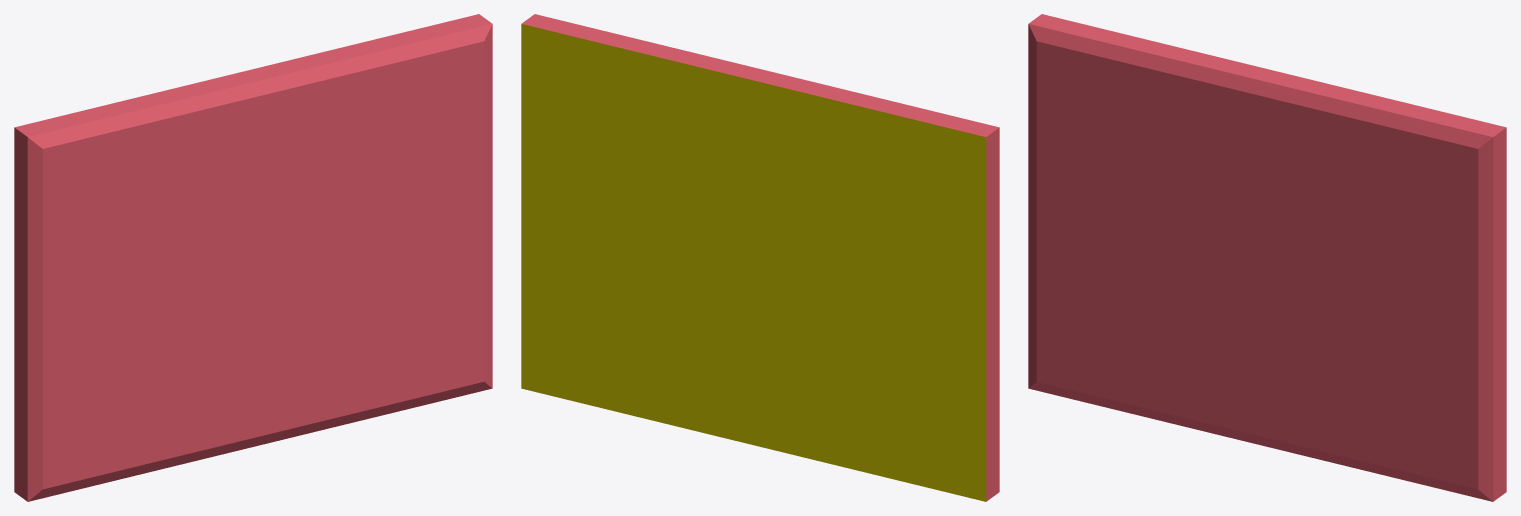
Rendered from wall-scifi-1side.fbx.
3 views of the same model, side by side, from view 1: azimuth 30°, elevation 25°; view 2: azimuth 150°, elevation 25°; view 3: azimuth 330°, elevation 25° (orthographic).
Parts seen in each view (by area): view 1: wall-scifi-1side; view 2: wall-scifi-1side; view 3: wall-scifi-1side.
Boxes of the visible parts, x1=… form: wall-scifi-1side: x1=14, y1=14, x2=492, y2=501; wall-scifi-1side: x1=521, y1=14, x2=999, y2=501; wall-scifi-1side: x1=1028, y1=14, x2=1506, y2=501.
Bounding box in the file's own units: 4 × 3 × 0.25.
